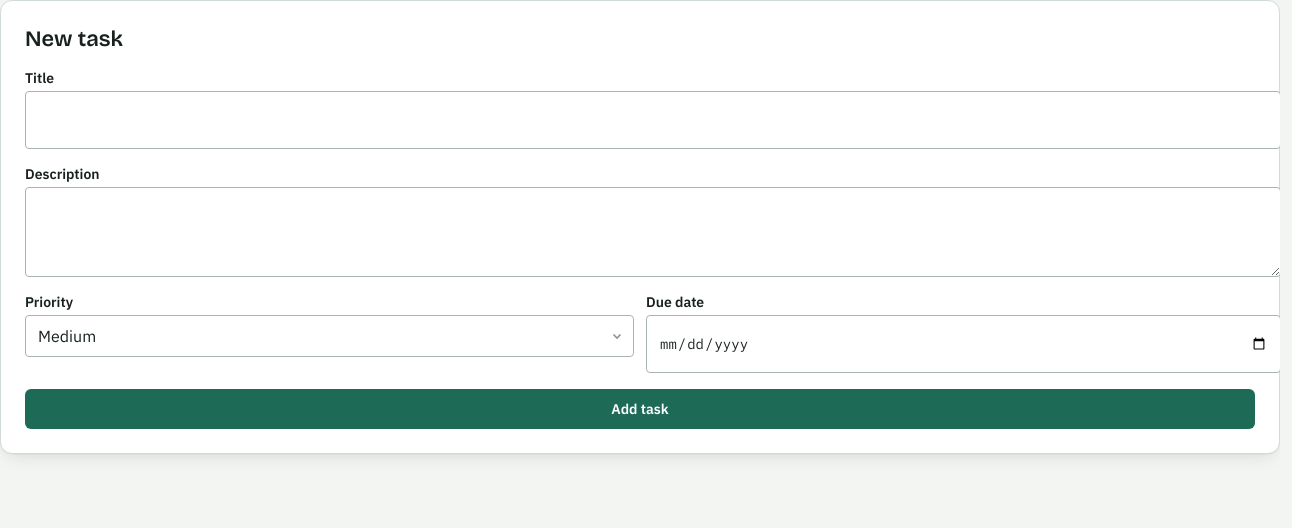
it: TaskForm › announces success in a status region and returns focus to the title
Type "Ship it" into the field labelled "Title". click: [652, 120]
box: [25,91,1280,149]
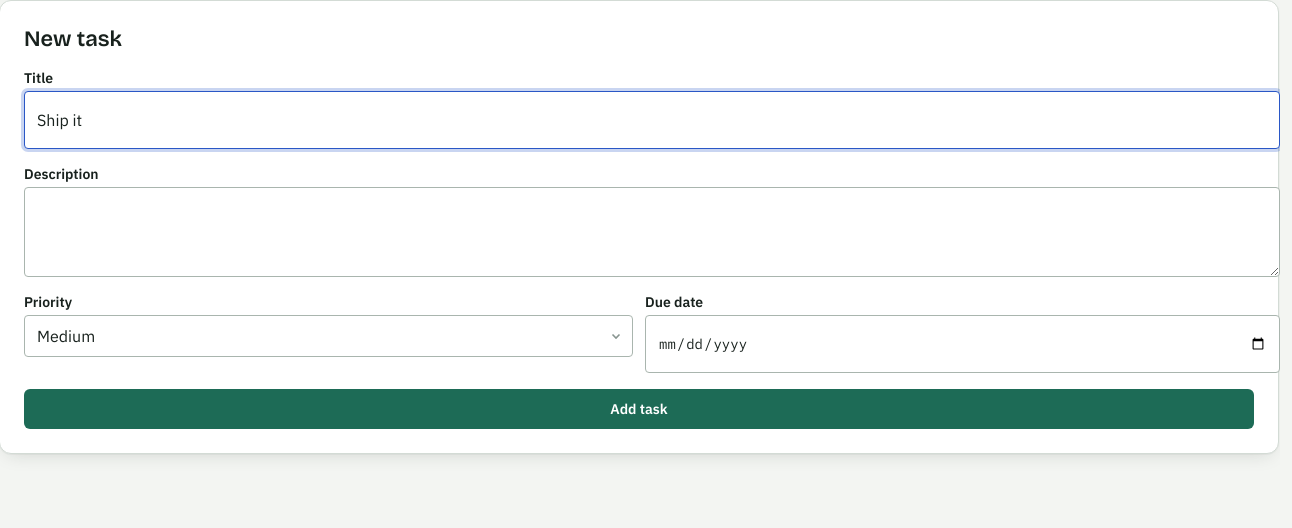
Click the button "Add task". click: [639, 409]
box: [24,389,1254,429]
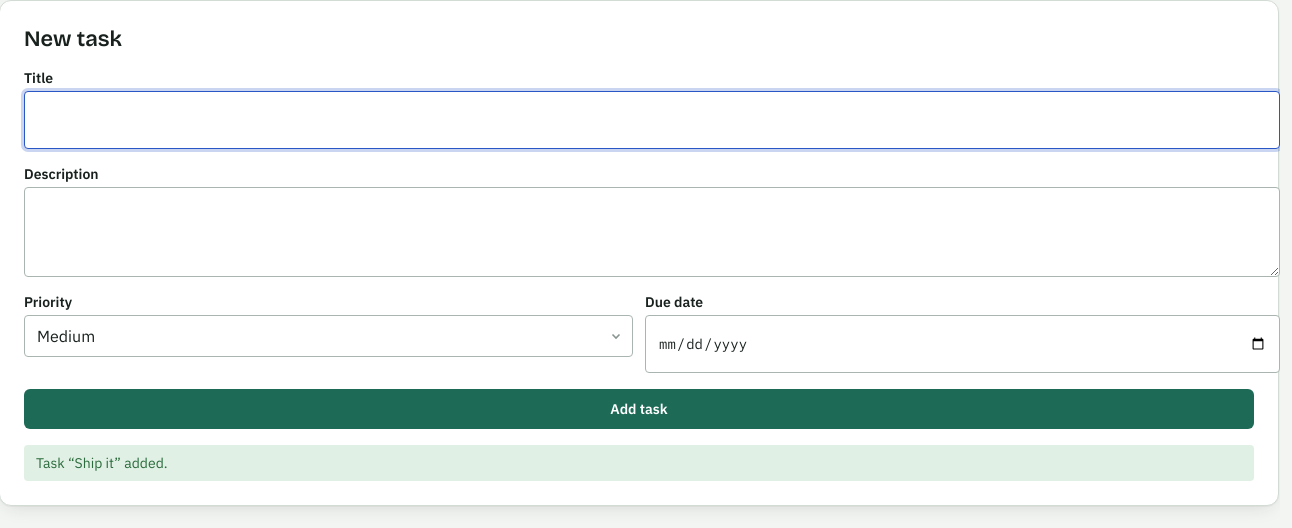
Expected: the message reads "Task “Ship it” added.", [36,454,168,472]
